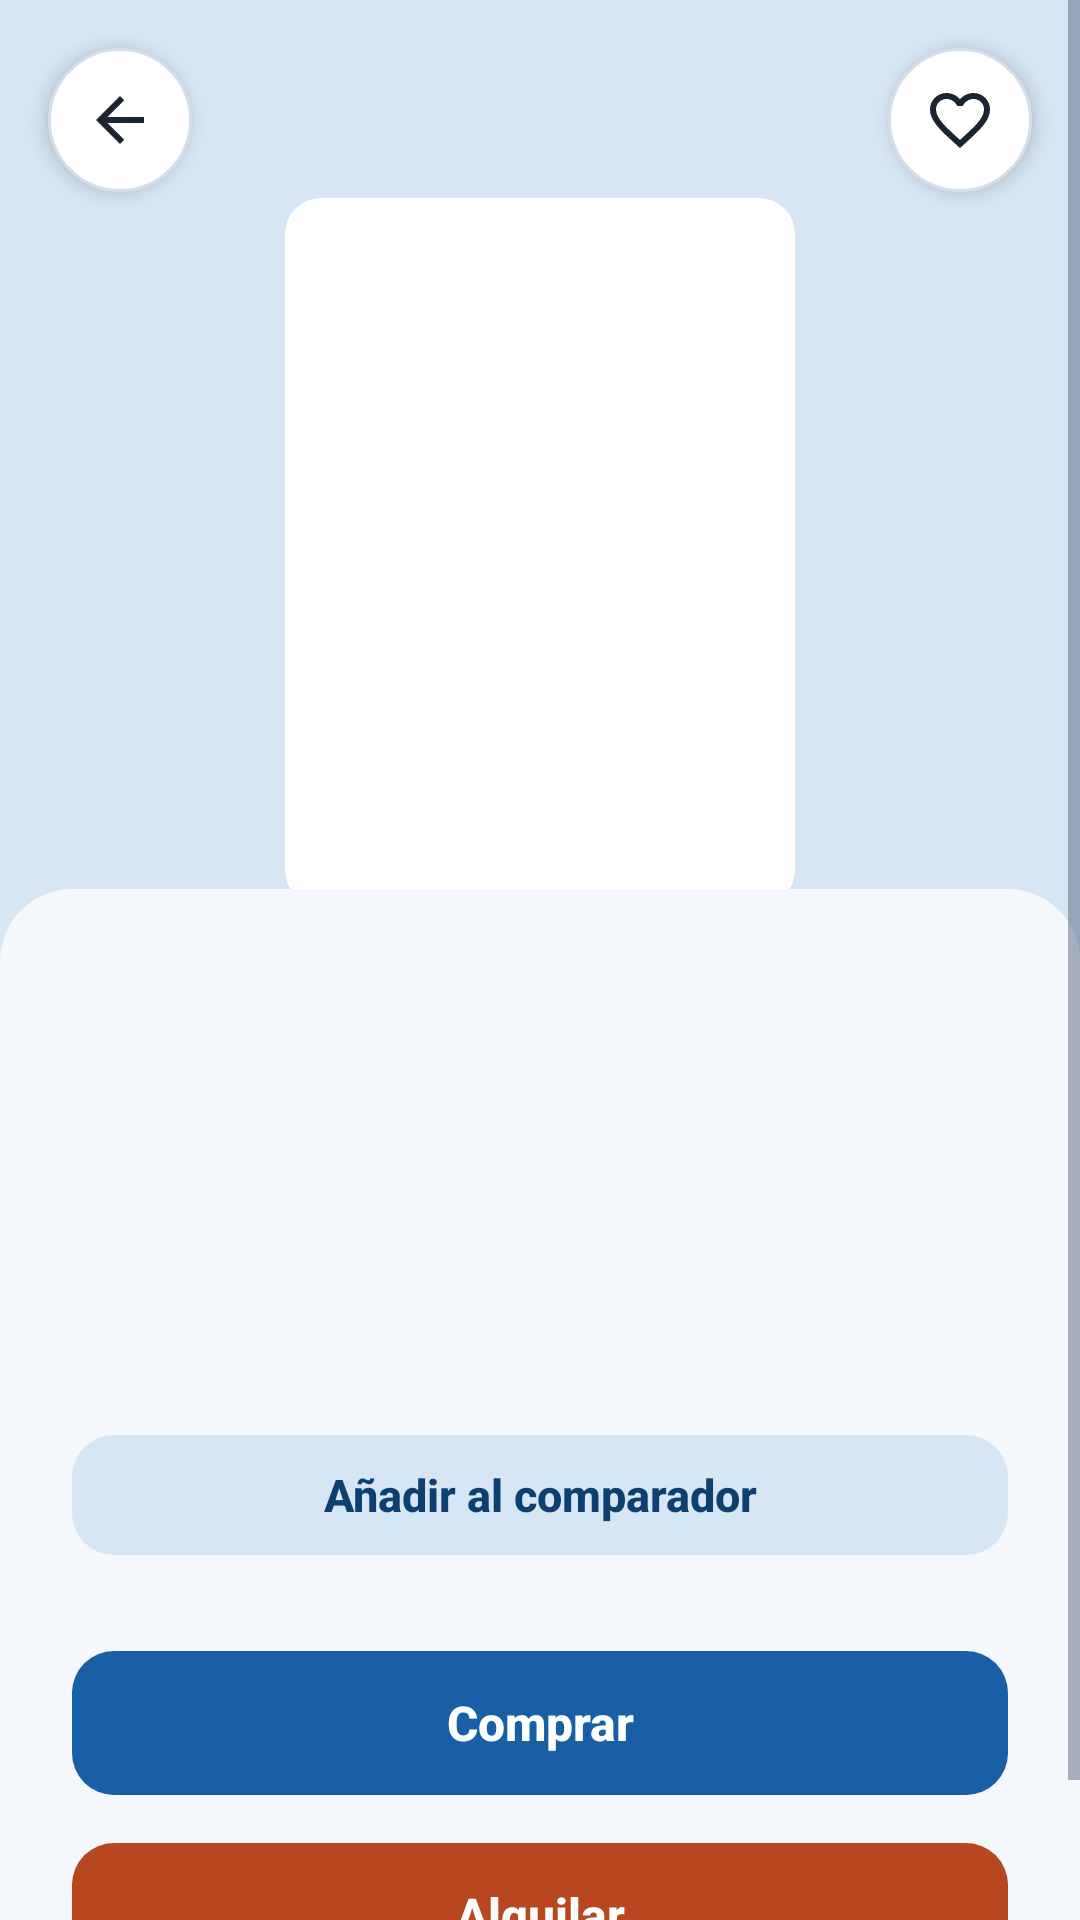

Point at icon controls on the screen. Image size 1080w x 1920h, points as (x=x, y=y).
Añadir a favoritos: (x=961, y=120)
Volver: (x=118, y=120)
